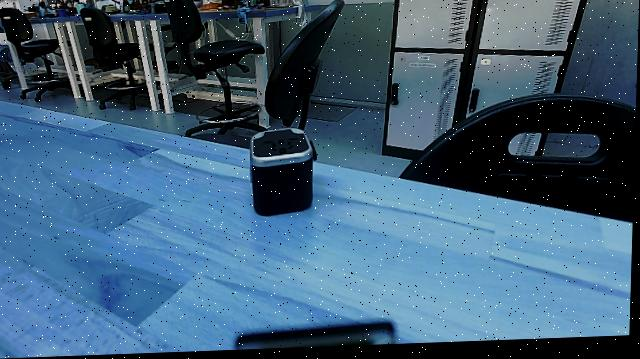adapter: (242, 123, 322, 225)
